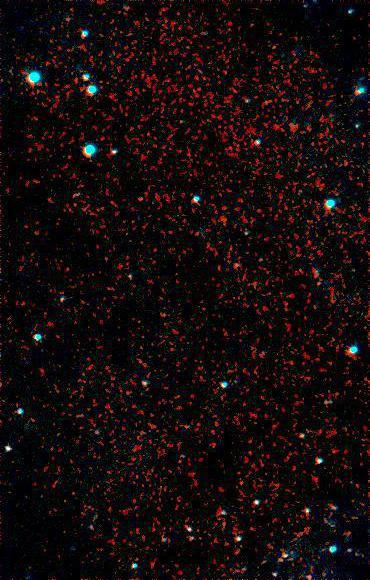star: (122, 184, 152, 214)
